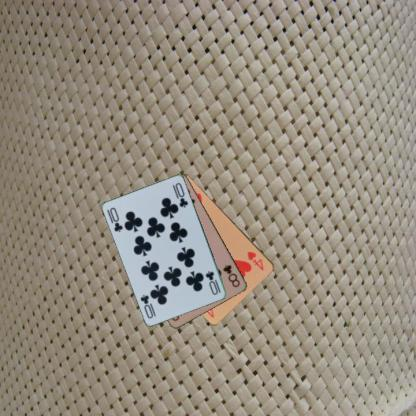10c: (203, 268, 222, 296), (108, 205, 124, 234)
4h: (245, 249, 265, 272)
8c: (221, 262, 242, 288)
